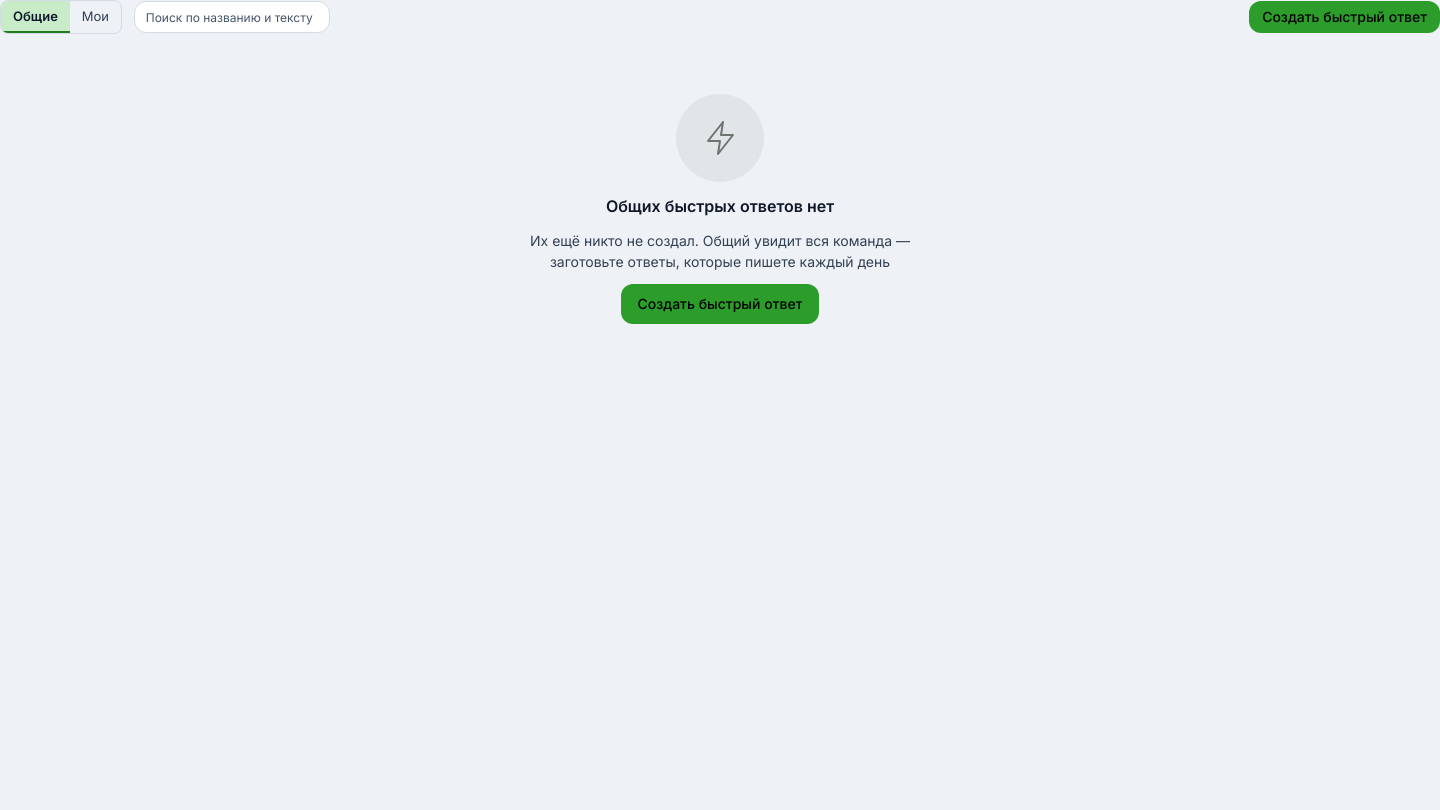
Test: Пустой раздел предлагает единственное действие › из пустоты редактор открывается на месте, а не поиском кнопки наверху
The image size is (1440, 810).
What coordinates should you click on to do the following:
click the button "Создать быстрый ответ" below "Общих быстрых ответов нет"
I would click on:
 (720, 304)
Its box is x1=621 y1=284 x2=820 y2=324.
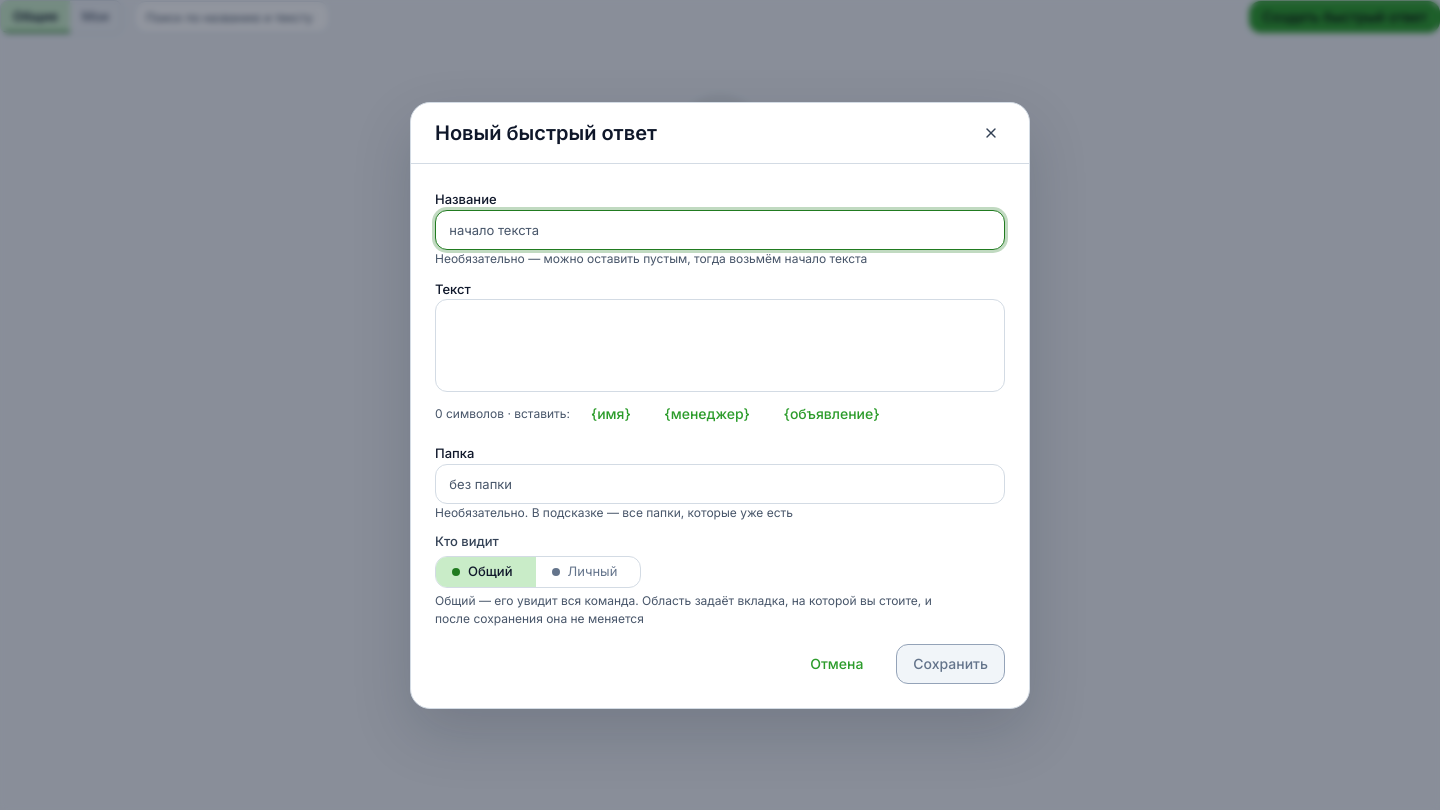
Now the heading "Новый быстрый ответ" is shown, box x1=435 y1=123 x2=657 y2=143
